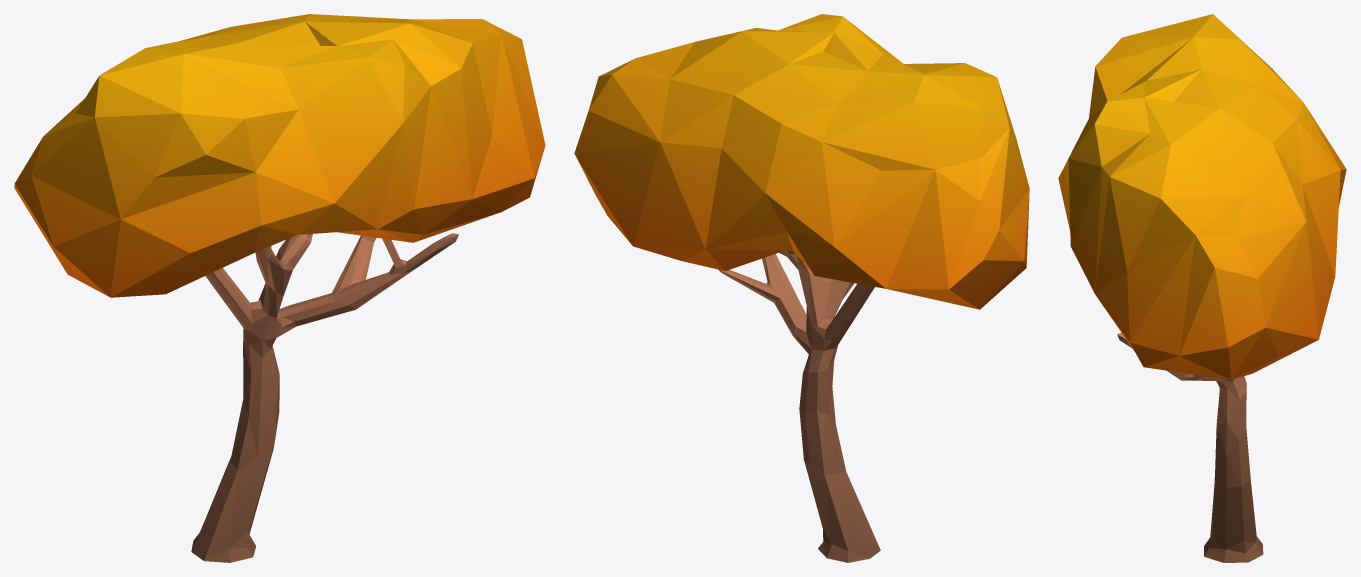
Rendered from autumn tree 9.fbx.
3 renders of one model, left to right at view 1: azimuth 30°, elevation 25°; view 2: azimuth 150°, elevation 25°; view 3: azimuth 270°, elevation 25°, orthographic. The views are drawn at different scales.
Visible parts, largest first — view 1: autumn tree 9; view 2: autumn tree 9; view 3: autumn tree 9.
Boxes of the visible parts, left/top/right/bottom form: autumn tree 9: left=14, top=14, right=545, bottom=562; autumn tree 9: left=574, top=14, right=1029, bottom=562; autumn tree 9: left=1058, top=14, right=1346, bottom=562.
Size of the model in its own units: 650 by 674 by 363.
